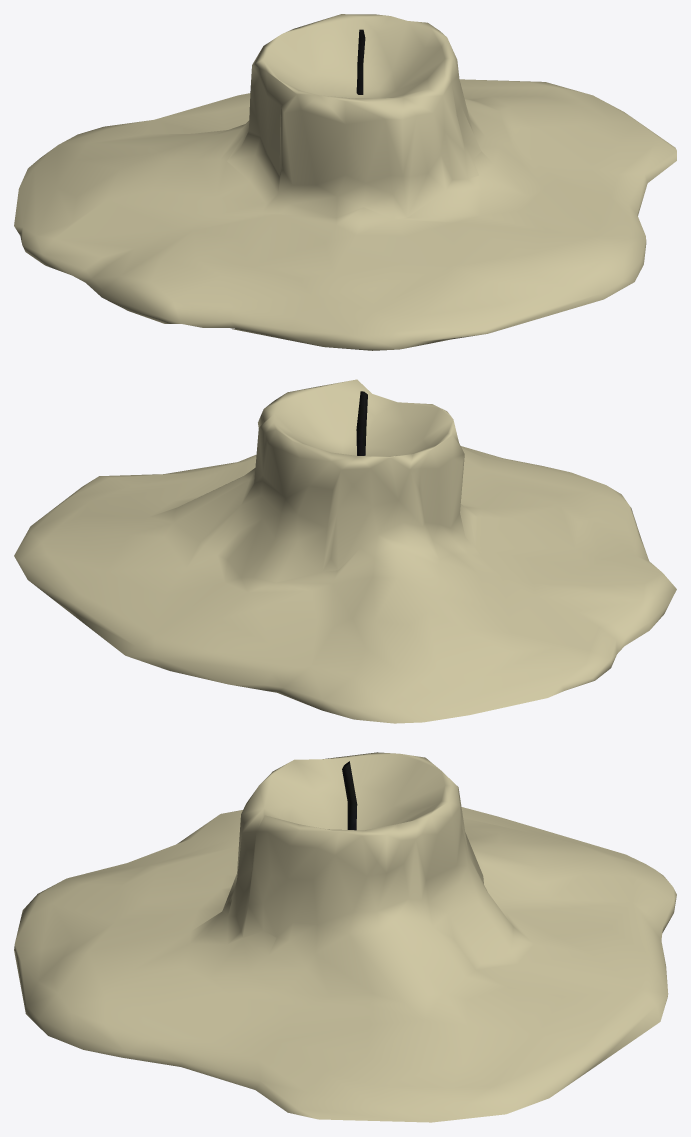
File: SM_Candle_Used_C.glb
The picture shows the model from 3 angles, top to bottom: view 1: azimuth 30°, elevation 25°; view 2: azimuth 150°, elevation 25°; view 3: azimuth 270°, elevation 25°; orthographic projection. The views are drawn at different scales.
Parts seen in each view (by area): view 1: SM_Candle_Used_C; view 2: SM_Candle_Used_C; view 3: SM_Candle_Used_C.
Boxes of the visible parts, <box> form: SM_Candle_Used_C: <box>14,14,676,350</box>; SM_Candle_Used_C: <box>14,379,676,723</box>; SM_Candle_Used_C: <box>14,752,676,1122</box>.
Bounding box in the file's own units: 0.1074 × 0.0334 × 0.0962.
1 material, 1 textured.
